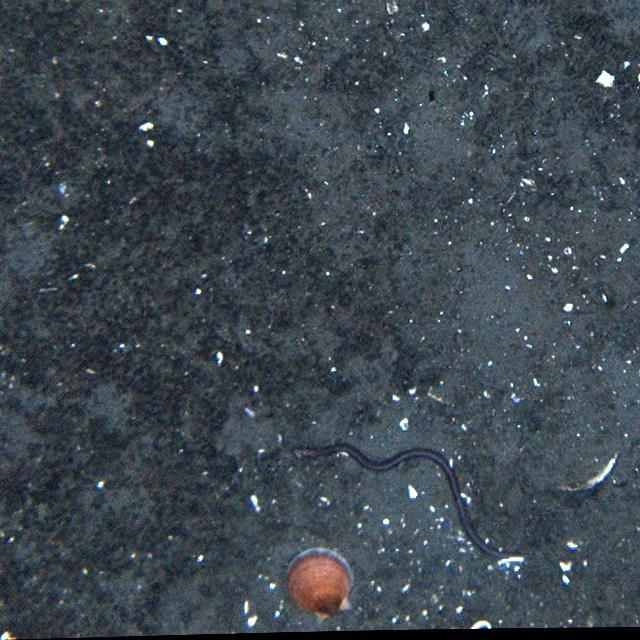scallop: (283, 545, 359, 622)
